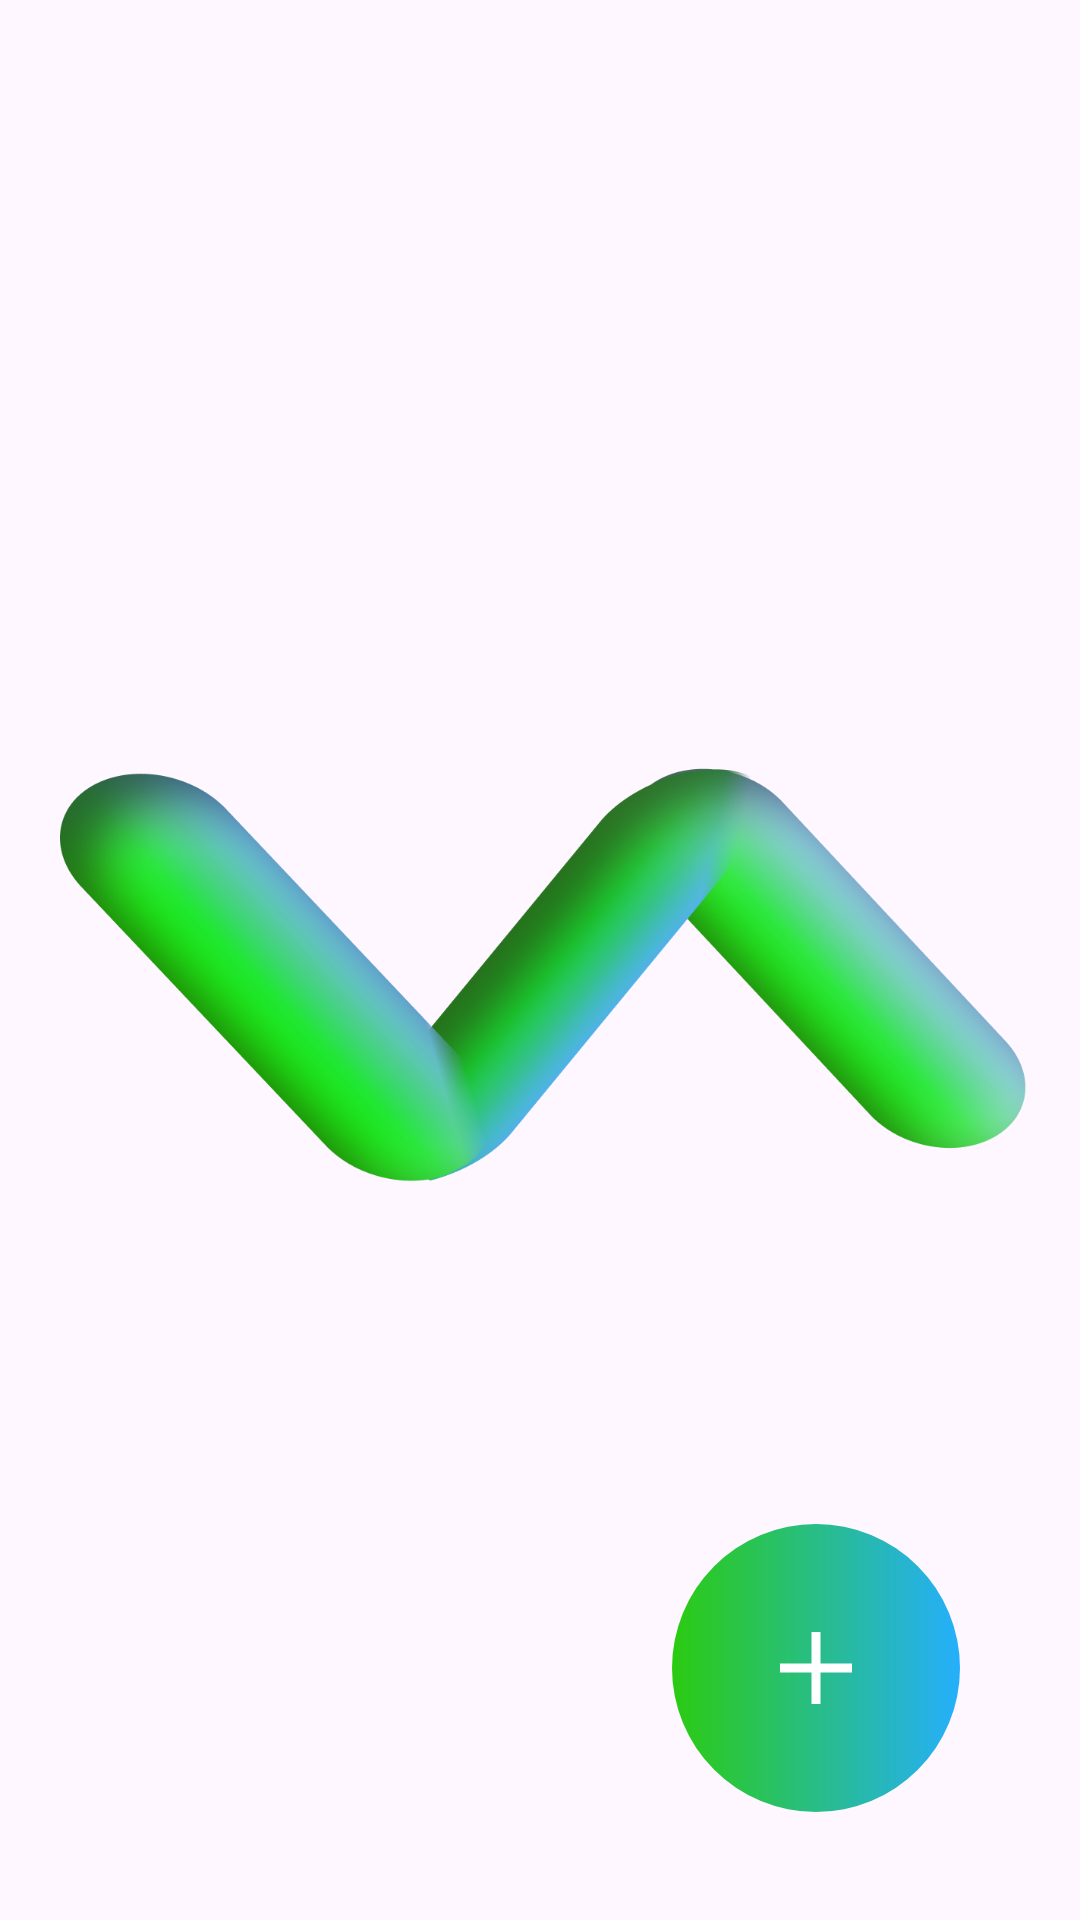

Named icons in this screenshot (1080 × 1920) and their centers, (x,y):
plus: (816,1668)
